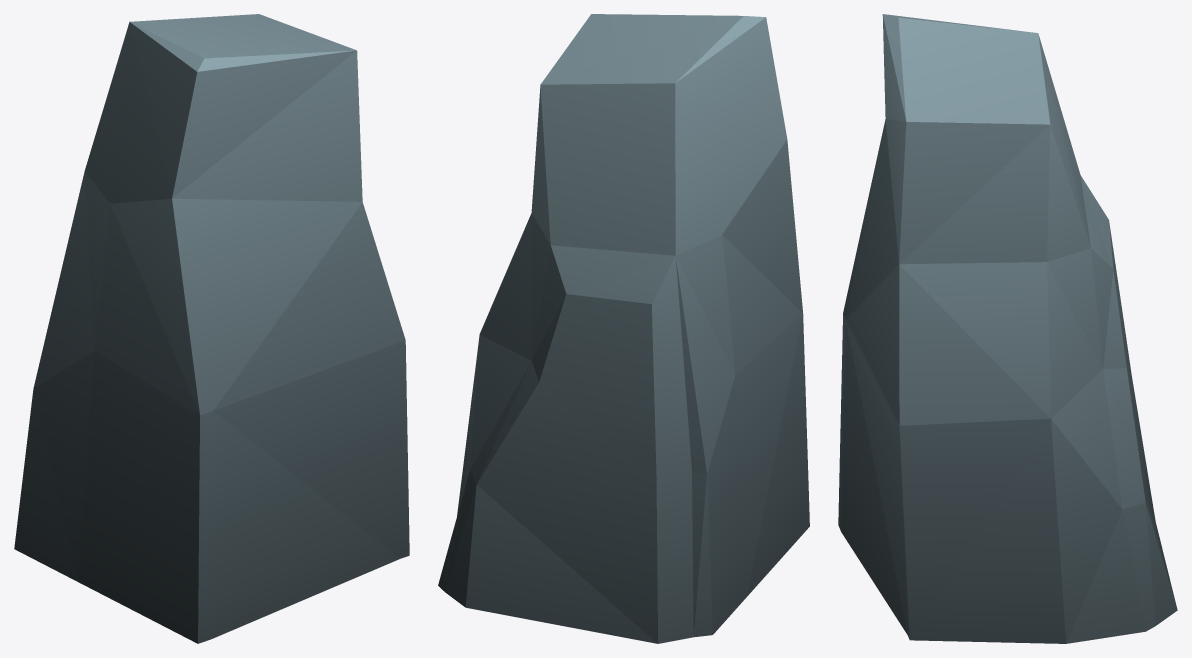
File: stone small gray blue.fbx
The picture shows the model from 3 angles, left to right: view 1: azimuth 30°, elevation 25°; view 2: azimuth 150°, elevation 25°; view 3: azimuth 270°, elevation 25°; orthographic projection. The views are drawn at different scales.
Parts seen in each view (by area): view 1: stone small gray blue; view 2: stone small gray blue; view 3: stone small gray blue.
Part boxes in pixels (x1=…): stone small gray blue: x1=14, y1=14, x2=409, y2=643; stone small gray blue: x1=438, y1=14, x2=809, y2=643; stone small gray blue: x1=838, y1=14, x2=1177, y2=643.
Bounding box in the file's own units: 46.67 × 82.83 × 48.53.
